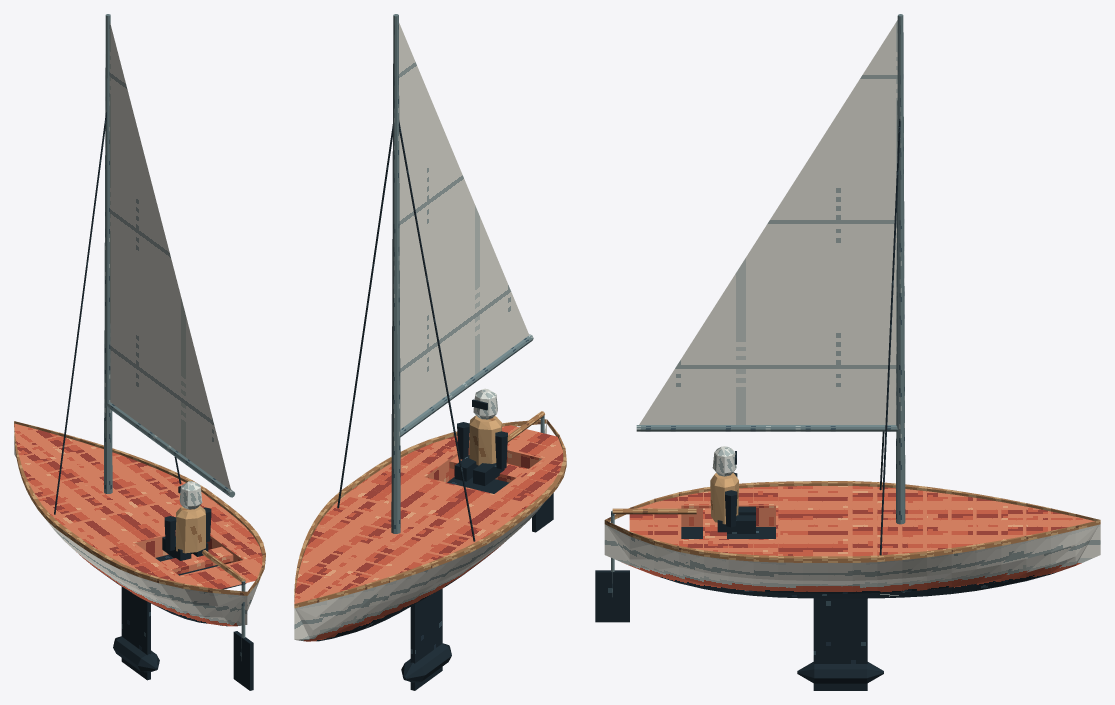
File: tern.glb
3 renders of one model, left to right at view 1: azimuth 30°, elevation 25°; view 2: azimuth 150°, elevation 25°; view 3: azimuth 270°, elevation 25°, orthographic. The views are drawn at different scales.
Visible parts, largest first — view 1: sail, deck, hull, mast, gunwale_left, keel_skin, gunwale_right, crew_jacket, rudder_foil_skin, boom_skin, shroud_-1, ballast (+3 smaller); view 2: sail, deck, hull, mast, gunwale_left, keel_skin, gunwale_right, crew_jacket, boom_skin, shroud_-1, ballast, shroud_1 (+9 smaller); view 3: sail, deck, hull, mast, keel_skin, gunwale_right, gunwale_left, rudder_foil_skin, boom_skin, ballast, shroud_1, cockpit_side_-1 (+2 smaller).
Boxes of the visible parts, bbox=[...] form: sail: bbox=[109, 21, 231, 490]; deck: bbox=[14, 423, 262, 589]; hull: bbox=[14, 440, 259, 626]; mast: bbox=[104, 14, 112, 493]; gunwale_left: bbox=[14, 421, 247, 595]; keel_skin: bbox=[121, 587, 150, 680]; gunwale_right: bbox=[14, 421, 265, 595]; crew_jacket: bbox=[176, 506, 205, 553]; rudder_foil_skin: bbox=[233, 631, 253, 690]; boom_skin: bbox=[106, 402, 234, 497]; shroud_-1: bbox=[54, 112, 106, 514]; ballast: bbox=[113, 636, 159, 672]; sail: bbox=[399, 23, 528, 429]; deck: bbox=[294, 425, 563, 603]; hull: bbox=[294, 422, 546, 641]; mast: bbox=[391, 14, 400, 533]; gunwale_left: bbox=[294, 419, 566, 608]; keel_skin: bbox=[410, 588, 442, 690]; gunwale_right: bbox=[294, 419, 546, 601]; crew_jacket: bbox=[469, 415, 501, 465]; boom_skin: bbox=[400, 334, 533, 437]; shroud_-1: bbox=[399, 120, 475, 541]; ballast: bbox=[401, 643, 451, 682]; shroud_1: bbox=[337, 124, 392, 508]; sail: bbox=[639, 20, 897, 424]; deck: bbox=[629, 486, 1094, 556]; hull: bbox=[604, 524, 1100, 598]; mast: bbox=[896, 14, 905, 524]; keel_skin: bbox=[813, 598, 867, 690]; gunwale_right: bbox=[604, 520, 1100, 562]; gunwale_left: bbox=[605, 481, 1099, 521]; rudder_foil_skin: bbox=[595, 570, 629, 622]; boom_skin: bbox=[636, 425, 898, 431]; ballast: bbox=[797, 662, 883, 683]; shroud_1: bbox=[879, 119, 900, 555]; cockpit_side_-1: bbox=[679, 504, 778, 526].
Size of the model in its own units: 2.3 by 9.31 by 6.32.
Materials: 2 (2 with a texture image).
